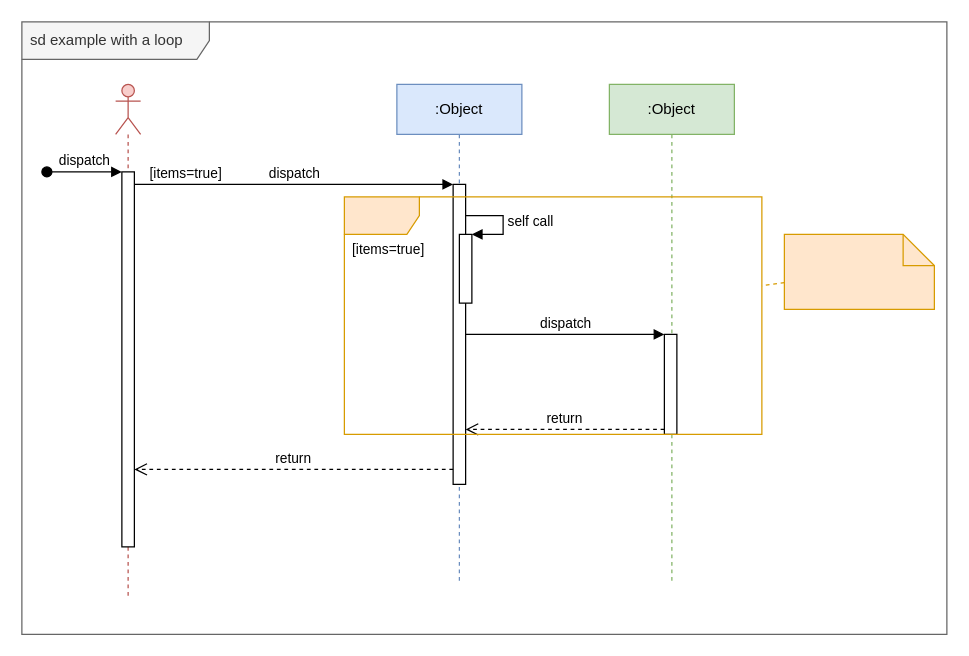
This 969x656 diagram has some shape labels left out. The box of each missing label's shape, as (x1, y1, x2, y2) in pixels:
loop: (343, 196, 762, 434)
Only on valid items: (783, 233, 934, 309)
